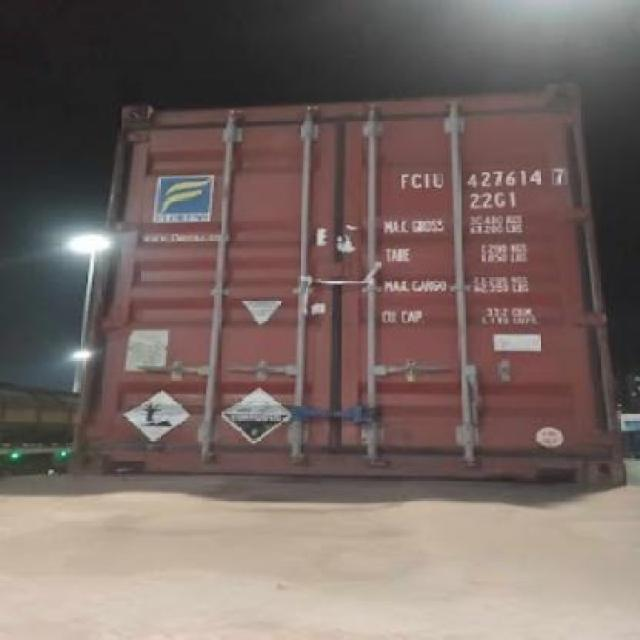ISO: (471, 190, 519, 210)
container_number: (400, 168, 566, 190)
